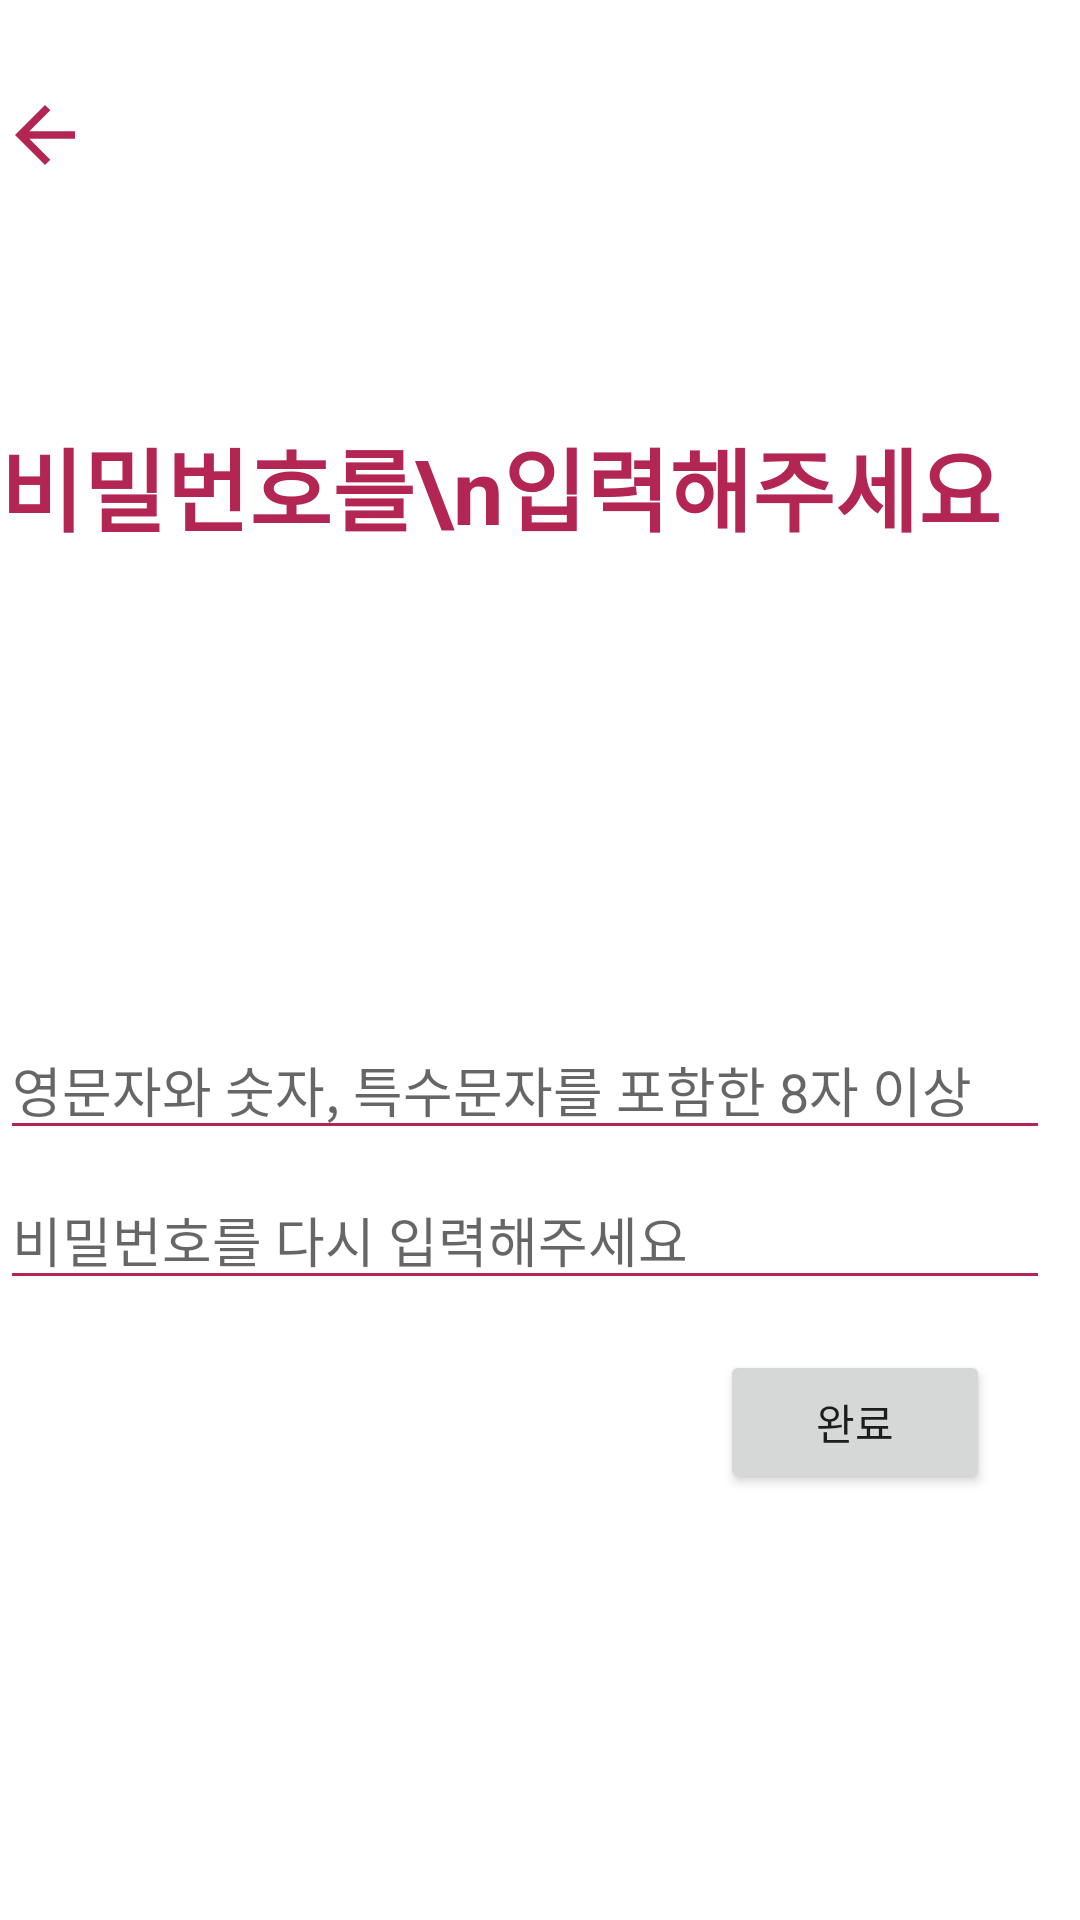

Named icons in this screenshot (1080px×1920px) and their centers, (x,y):
arrow back: (45,135)
